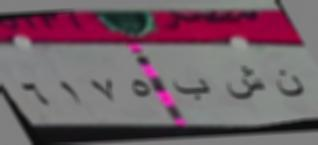1: (57, 73, 87, 115)
5: (127, 74, 154, 105)
6: (20, 75, 52, 115)
7: (91, 73, 122, 113)
baa: (167, 70, 217, 105)
noon: (273, 68, 306, 107)
sheen: (224, 61, 267, 108)
